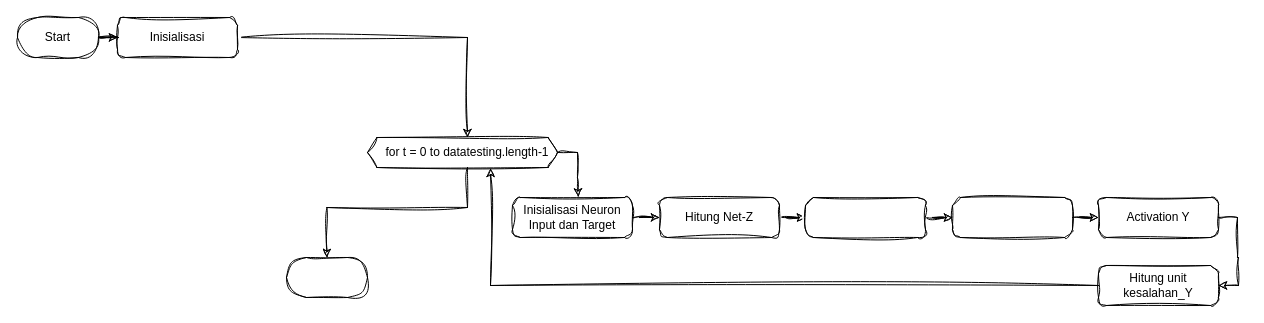
The diagram is 1264 pixels wide and 323 high, and some of its shapes have lost their labels. The box of each missing label's shape, as (x1, y1, x2, y2) in pixels:
Activation Z: (804, 196, 926, 238)
Finish: (286, 256, 368, 298)
Hitung Net-Y: (952, 196, 1072, 238)
